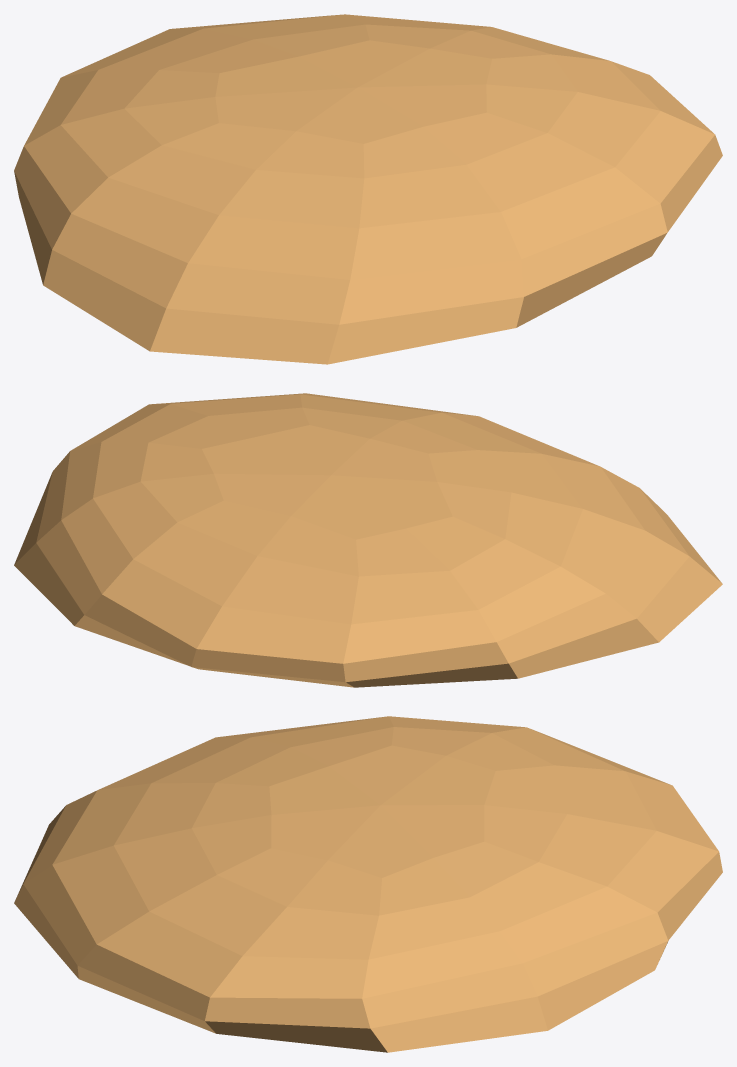
Rendered from Sand4.glb.
3 renders of one model, top to bottom at view 1: azimuth 30°, elevation 25°; view 2: azimuth 150°, elevation 25°; view 3: azimuth 270°, elevation 25°, orthographic. The views are drawn at different scales.
Visible parts, largest first — view 1: Sand5; view 2: Sand5; view 3: Sand5.
Boxes of the visible parts, left/top/right/bottom form: Sand5: left=14, top=14, right=722, bottom=364; Sand5: left=14, top=393, right=722, bottom=687; Sand5: left=14, top=716, right=722, bottom=1052.
Size of the model in its own units: 30 by 5.18 by 28.48.
